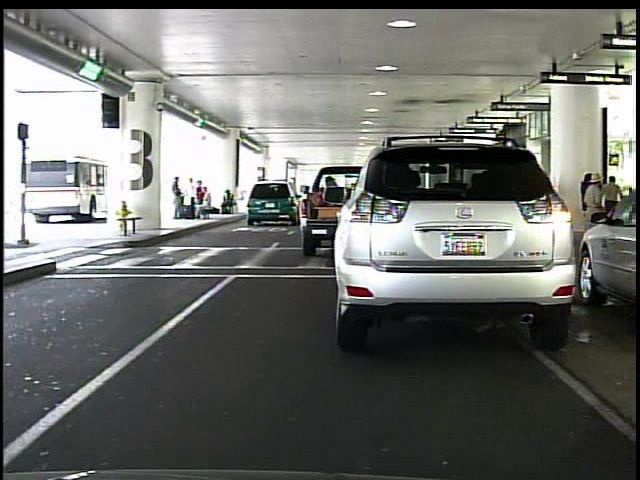person: (581, 169, 610, 254), (603, 174, 625, 233), (166, 171, 186, 223)
